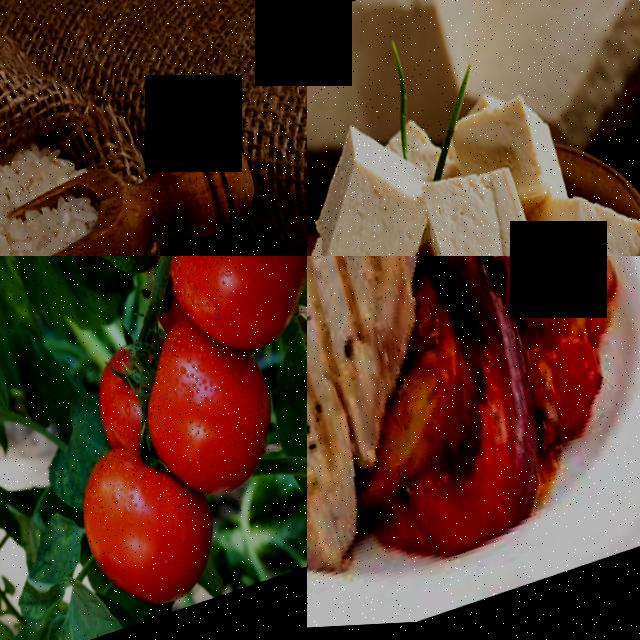tofu: (307, 118, 443, 256), (414, 155, 550, 256), (496, 91, 570, 212), (536, 179, 640, 256)
tomato: (122, 301, 286, 518), (62, 432, 224, 629), (139, 256, 307, 371)
